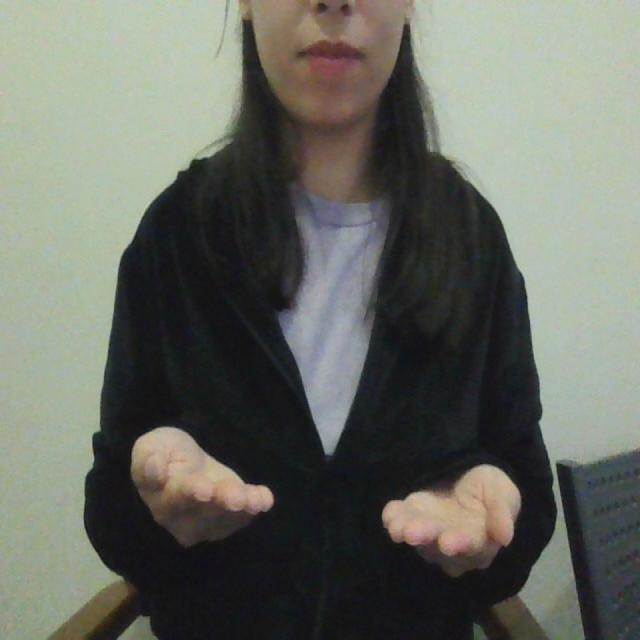Evet: (118, 424, 524, 578)
